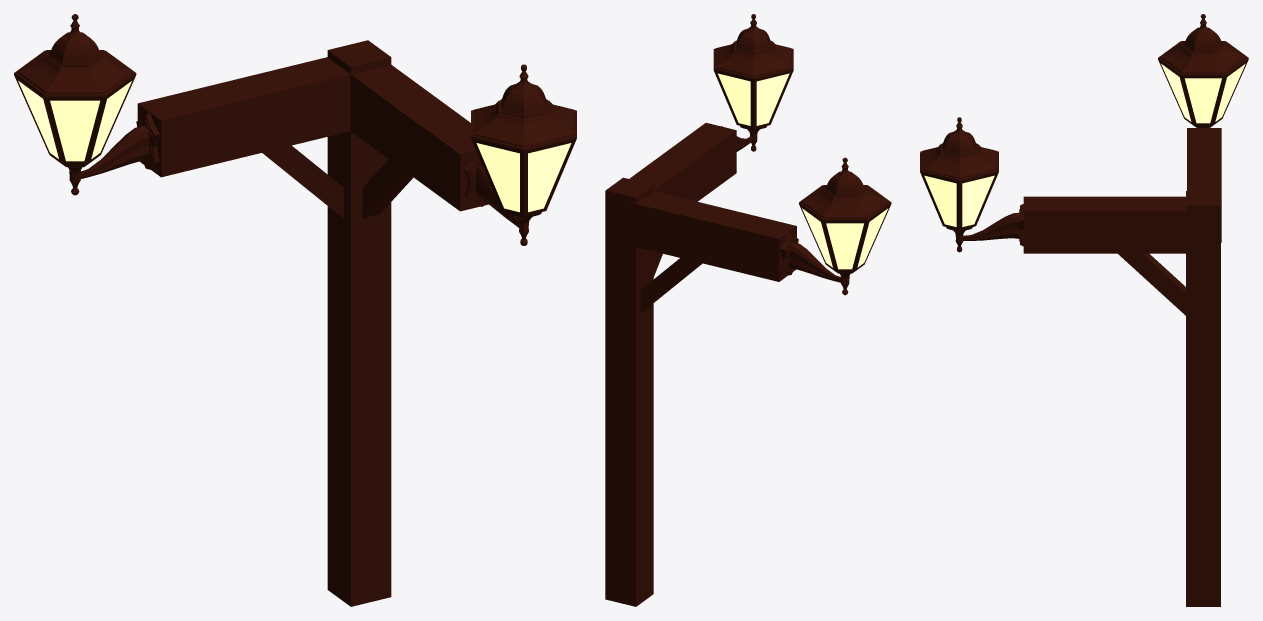
The model's file is Farol.fbx.
3 views of the same model, side by side, from view 1: azimuth 30°, elevation 25°; view 2: azimuth 150°, elevation 25°; view 3: azimuth 270°, elevation 25° (orthographic). The views are drawn at different scales.
Parts seen in each view (by area): view 1: PalosC4.002, Faro, Faro.001, Luces.003, Luces.004; view 2: PalosC4.002, Faro, Faro.001, Luces.003, Luces.004; view 3: PalosC4.002, Faro.001, Faro, Luces.003, Luces.004.
Boxes of the visible parts, x1,y1,x2,y2 form: PalosC4.002: [137, 40, 488, 606]; Faro: [14, 14, 159, 195]; Faro.001: [463, 64, 576, 245]; Luces.003: [18, 81, 131, 161]; Luces.004: [476, 143, 571, 212]; PalosC4.002: [605, 123, 796, 606]; Faro: [781, 157, 891, 295]; Faro.001: [713, 14, 793, 151]; Luces.003: [802, 208, 888, 269]; Luces.004: [717, 73, 789, 125]; PalosC4.002: [1023, 128, 1221, 606]; Faro.001: [920, 117, 1023, 252]; Faro: [1158, 14, 1248, 127]; Luces.003: [1161, 63, 1245, 123]; Luces.004: [924, 175, 994, 226].
Bounding box in the file's own units: 388 × 627 × 387.
